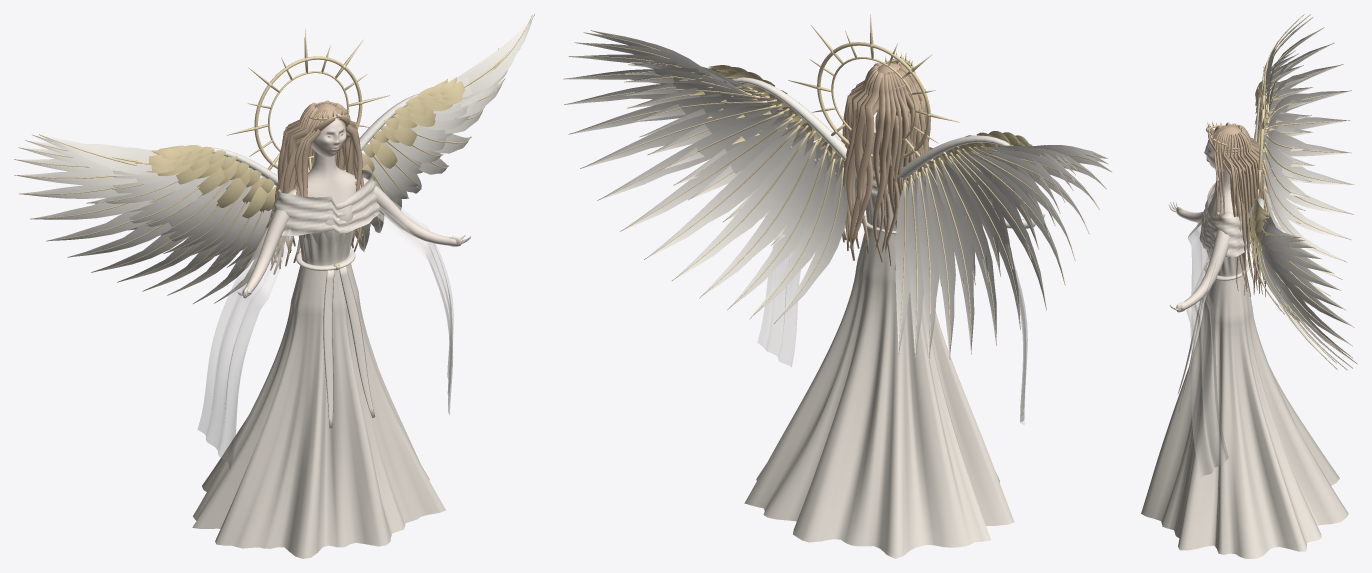
The model's file is mentor_mira.glb.
The picture shows the model from 3 angles, left to right: view 1: azimuth 30°, elevation 25°; view 2: azimuth 150°, elevation 25°; view 3: azimuth 270°, elevation 25°; orthographic projection. The views are drawn at different scales.
Parts seen in each view (by area): view 1: Mira_GownRobe, Mira_WingFeathersPrimary, Mira_WingFeathersMid, Mira_SilkVeil, Mira_WingCovertsGold, Mira_Hair, Mira_BodySkin, Mira_WingGoldQuills, Mira_HaloFiligree, Mira_WingArch, Mira_HeadSkin; view 2: Mira_WingFeathersPrimary, Mira_GownRobe, Mira_Hair, Mira_WingGoldQuills, Mira_WingFeathersMid, Mira_SilkVeil, Mira_HaloFiligree, Mira_WingCovertsGold, Mira_WingArch; view 3: Mira_GownRobe, Mira_WingFeathersPrimary, Mira_SilkVeil, Mira_Hair, Mira_WingGoldQuills, Mira_WingFeathersMid, Mira_BodySkin, Mira_WingCovertsGold, Mira_HaloFiligree.
Part boxes in pixels (<box>): Mira_GownRobe: <box>192,170,445,558</box>; Mira_WingFeathersPrimary: <box>18,15,533,303</box>; Mira_WingFeathersMid: <box>87,77,471,267</box>; Mira_SilkVeil: <box>197,201,453,469</box>; Mira_WingCovertsGold: <box>146,76,464,227</box>; Mira_Hair: <box>270,100,363,274</box>; Mira_BodySkin: <box>237,150,471,298</box>; Mira_WingGoldQuills: <box>14,14,534,303</box>; Mira_HaloFiligree: <box>227,28,389,174</box>; Mira_WingArch: <box>201,94,418,185</box>; Mira_HeadSkin: <box>311,118,346,157</box>; Mira_WingFeathersPrimary: <box>563,30,1111,359</box>; Mira_GownRobe: <box>744,139,1014,558</box>; Mira_Hair: <box>842,58,930,270</box>; Mira_WingGoldQuills: <box>563,30,1112,359</box>; Mira_WingFeathersMid: <box>624,61,1076,286</box>; Mira_SilkVeil: <box>757,225,1027,424</box>; Mira_HaloFiligree: <box>788,14,959,166</box>; Mira_WingCovertsGold: <box>679,65,1046,218</box>; Mira_WingArch: <box>732,77,1013,185</box>; Mira_GownRobe: <box>1141,180,1348,558</box>; Mira_WingFeathersPrimary: <box>1260,14,1357,369</box>; Mira_SilkVeil: <box>1186,220,1228,479</box>; Mira_Hair: <box>1208,122,1266,297</box>; Mira_WingGoldQuills: <box>1251,14,1357,369</box>; Mira_WingFeathersMid: <box>1252,51,1314,321</box>; Mira_BodySkin: <box>1168,171,1244,312</box>; Mira_WingCovertsGold: <box>1249,79,1282,264</box>; Mira_HaloFiligree: <box>1255,65,1265,199</box>.
Size of the model in its own units: 8.02 by 7.08 by 3.17.
